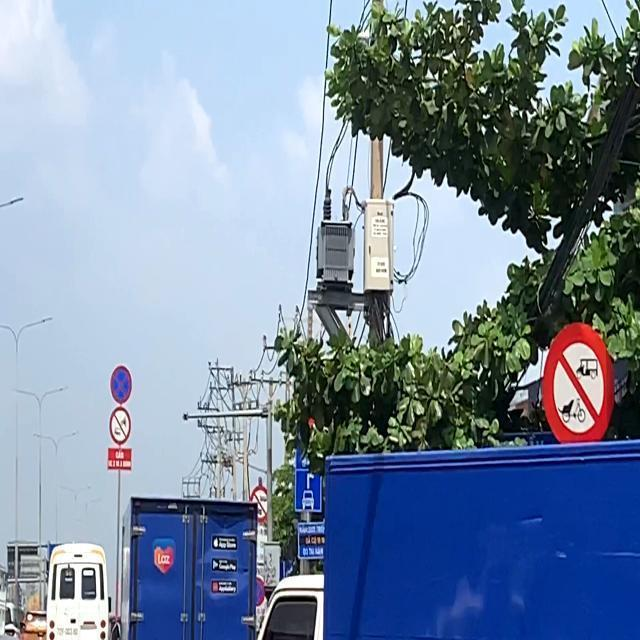130-cam-dung-va-do-xe: (109, 366, 133, 402)
